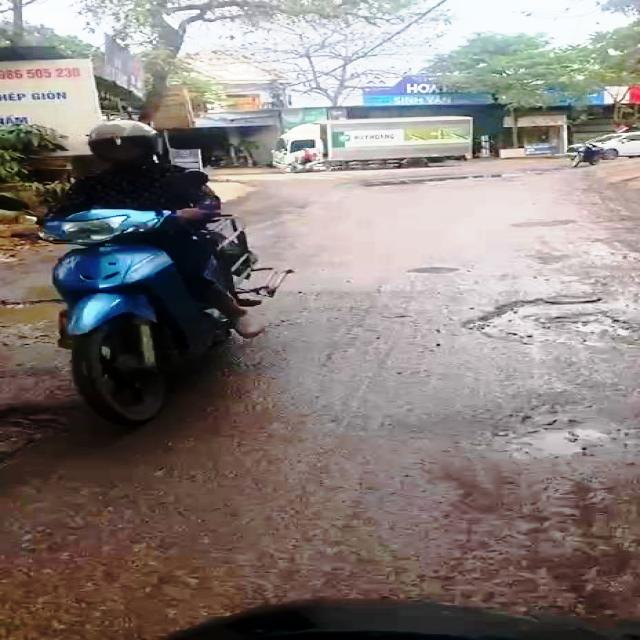pothole: (467, 296, 640, 345), (0, 400, 95, 466), (496, 425, 618, 463), (0, 296, 77, 340)
